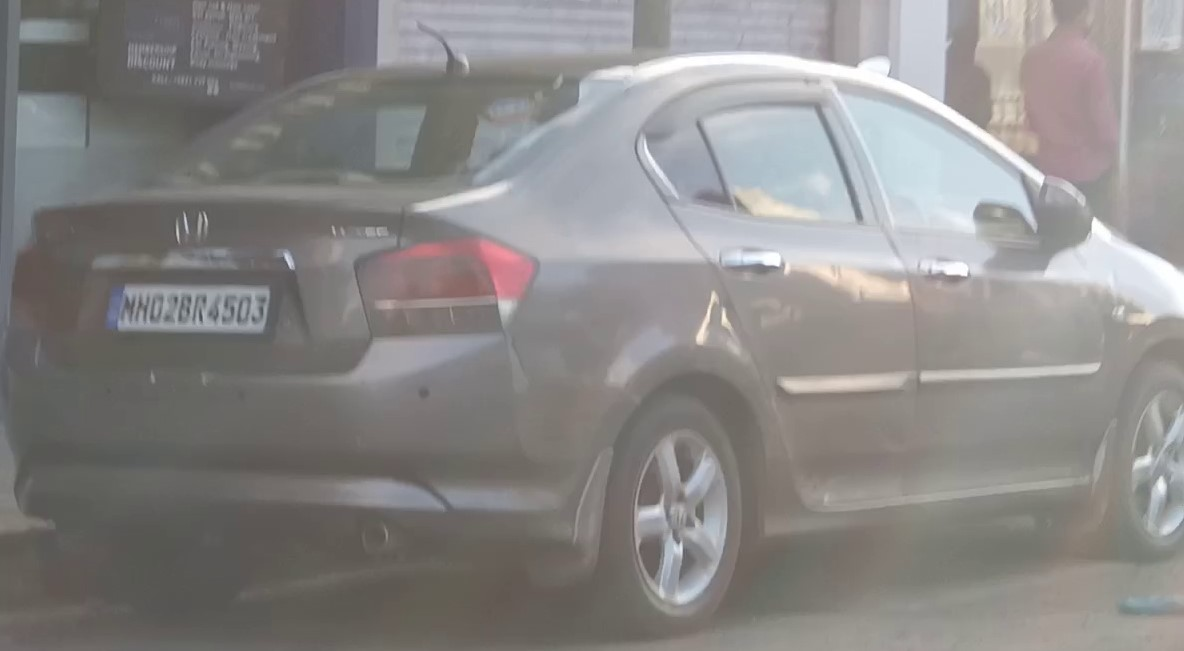MH02BR4503: (105, 283, 269, 332)
